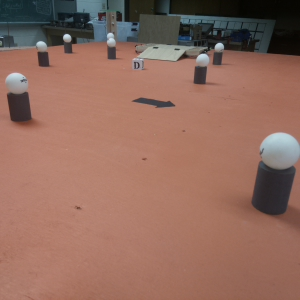obstacle: (255, 129, 294, 215), (5, 72, 34, 121), (194, 53, 209, 83), (38, 40, 50, 70), (213, 42, 223, 64), (63, 33, 72, 54), (109, 39, 115, 59)
slope: (138, 47, 183, 62)
